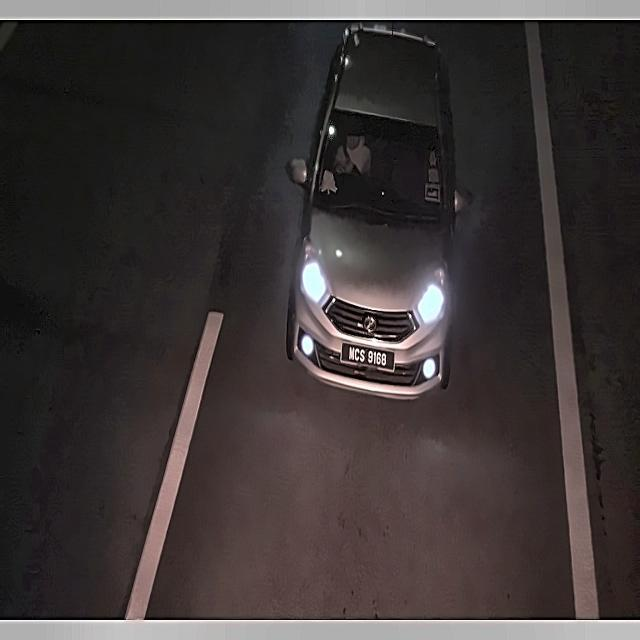car: (339, 335, 398, 378)
